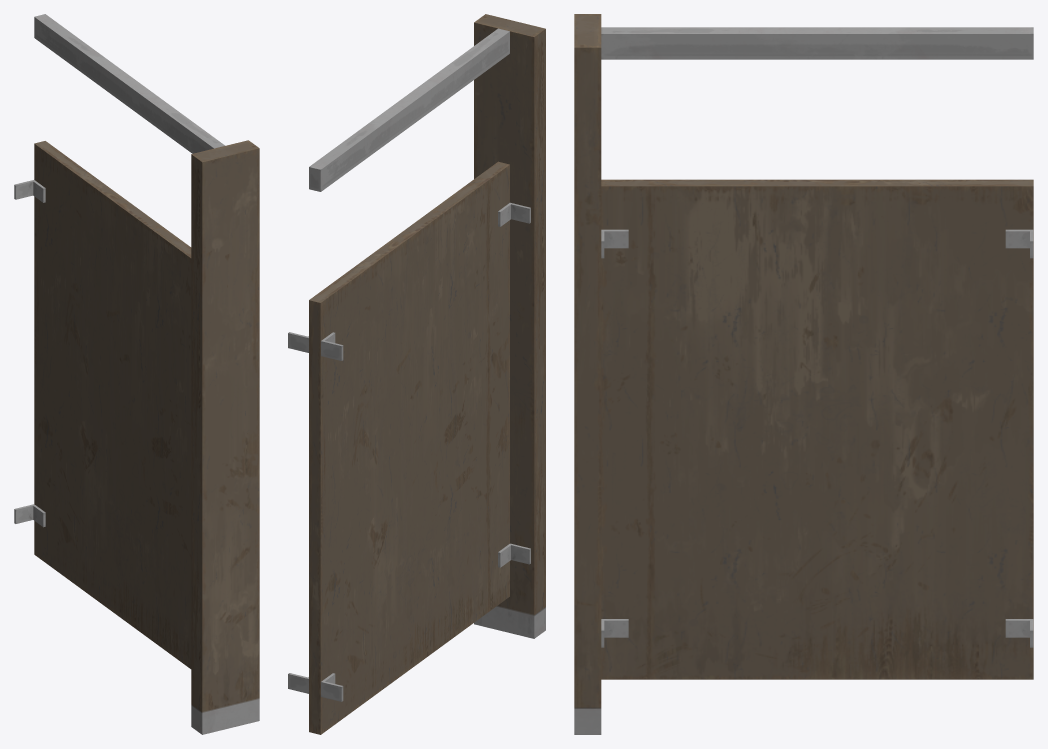
The model's file is SM_RestroomCabinPart_2.fbx.
The picture shows the model from 3 angles, left to right: view 1: azimuth 30°, elevation 25°; view 2: azimuth 150°, elevation 25°; view 3: azimuth 270°, elevation 25°; orthographic projection. The views are drawn at different scales.
Visible parts, largest first — view 1: SM_RestroomCabinPart_2_LOD0; view 2: SM_RestroomCabinPart_2_LOD0; view 3: SM_RestroomCabinPart_2_LOD0.
Boxes of the visible parts, x1,y1,x2,y2 form: SM_RestroomCabinPart_2_LOD0: (14,14,259,734); SM_RestroomCabinPart_2_LOD0: (288,14,545,734); SM_RestroomCabinPart_2_LOD0: (574,14,1033,734).
Bounding box in the file's own units: 29.44 × 170 × 281.
